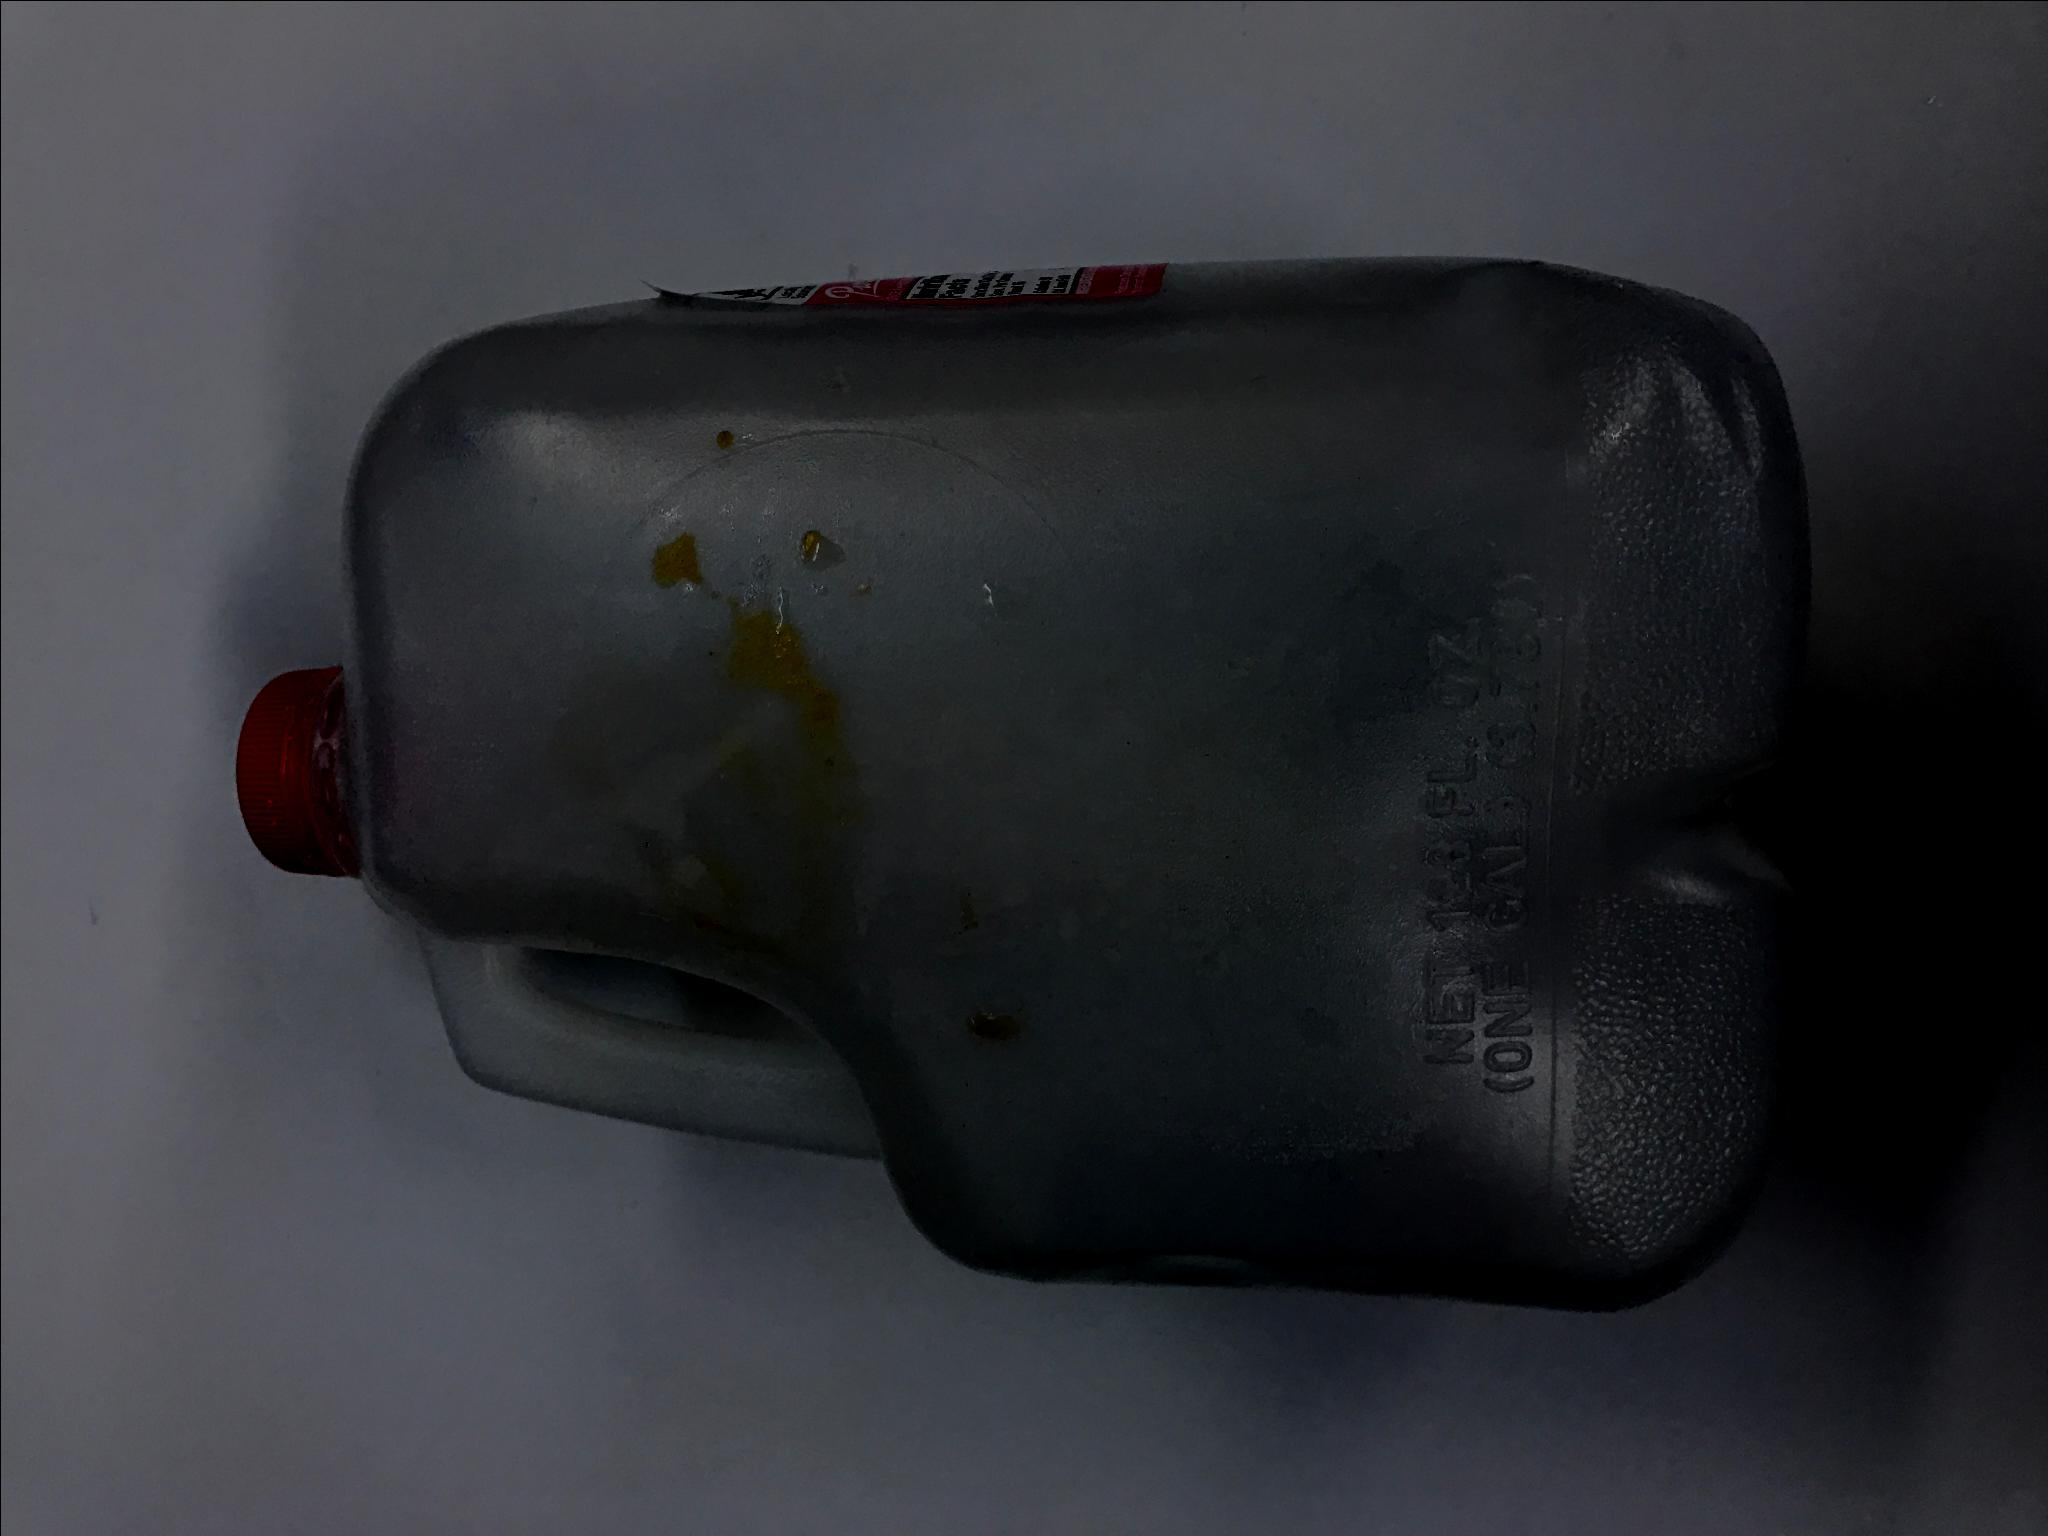Plastic: (221, 245, 1822, 1341)
